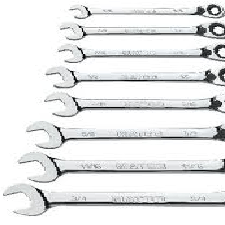Wrench: (6, 2, 225, 217)
